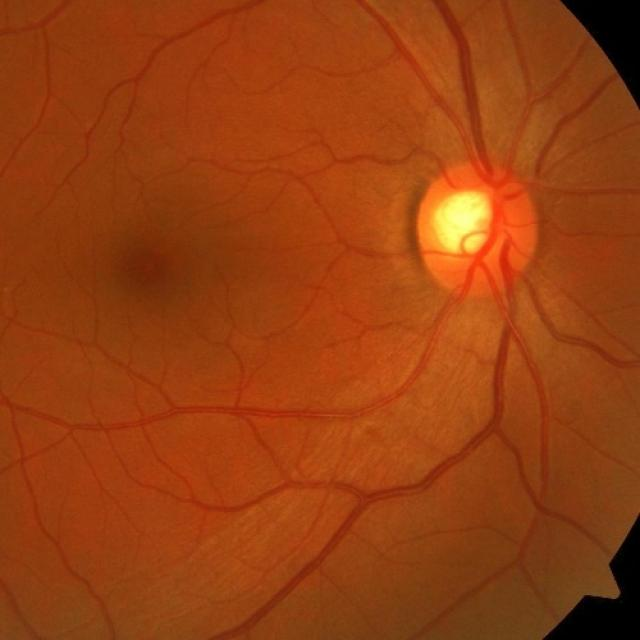OC: (434, 191, 493, 253)
OD: (417, 166, 538, 296)
